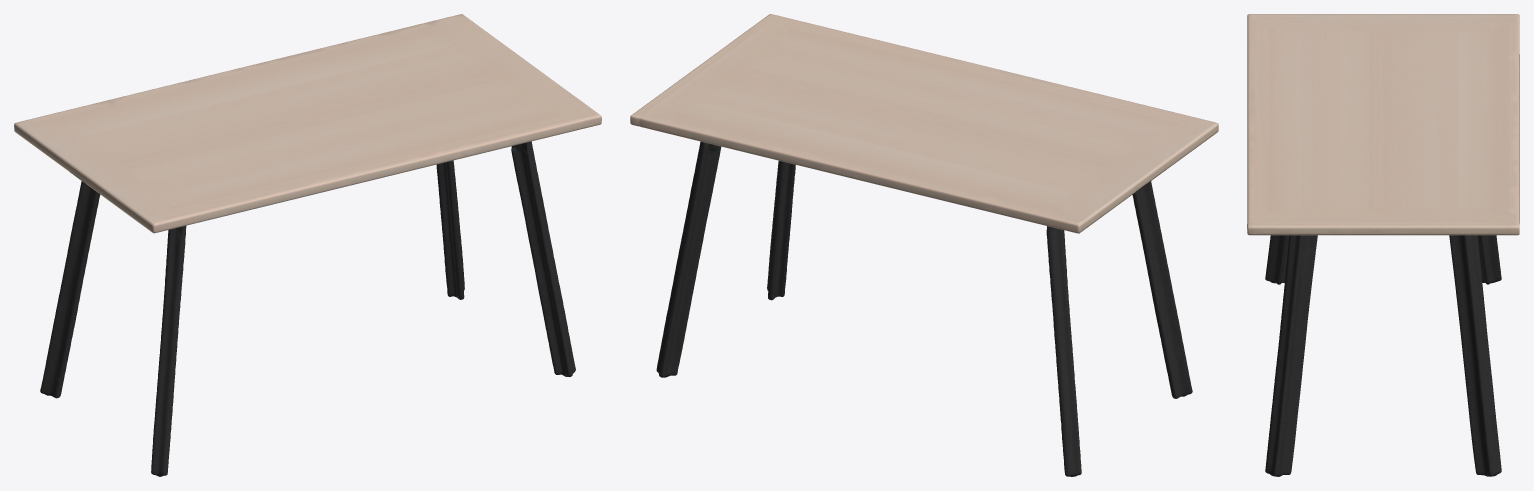
File: product-scandinavian-leith-dining-table-natural-black-safavieh-08.glb
The picture shows the model from 3 angles, left to right: view 1: azimuth 30°, elevation 25°; view 2: azimuth 150°, elevation 25°; view 3: azimuth 270°, elevation 25°; orthographic projection. The views are drawn at different scales.
Parts seen in each view (by area): view 1: geometry_0; view 2: geometry_0; view 3: geometry_0.
Boxes of the visible parts, left/top/right/bottom form: geometry_0: left=14, top=14, right=601, bottom=476; geometry_0: left=630, top=14, right=1218, bottom=476; geometry_0: left=1247, top=14, right=1519, bottom=476.
Bounding box in the file's own units: 1.97 × 1.12 × 1.07.
Materials: 1 (1 with a texture image).
